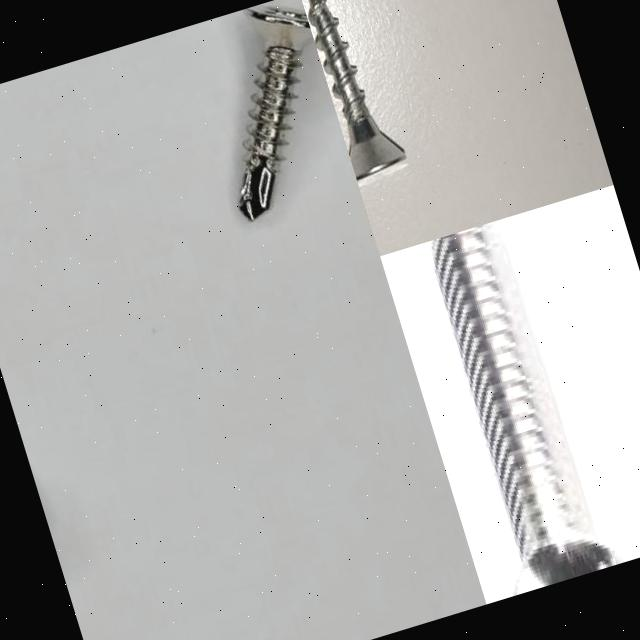Screw: (429, 221, 627, 597), (307, 0, 406, 183), (238, 8, 313, 221)
